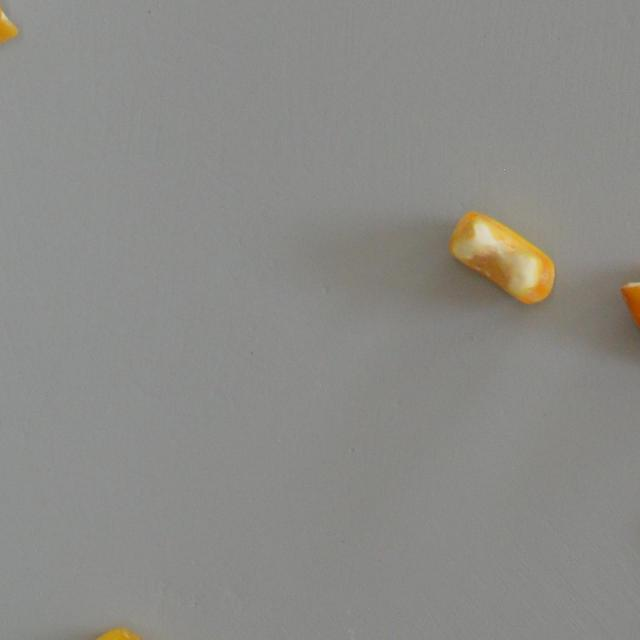dañado: (444, 205, 558, 308), (616, 252, 640, 372), (0, 0, 23, 74)
